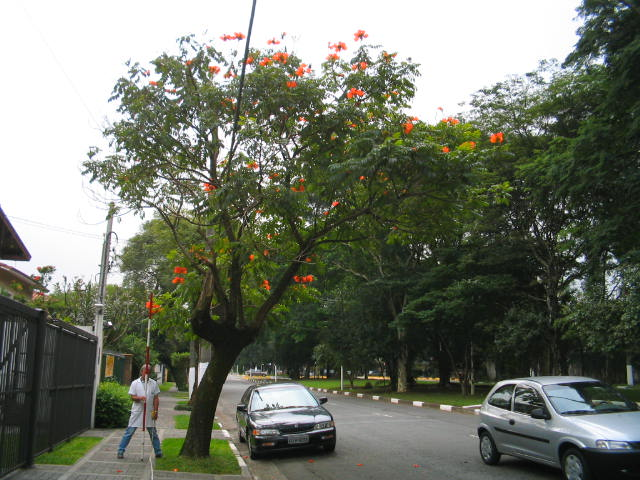crown: (77, 27, 503, 277)
stem: (175, 346, 243, 458)
stick: (136, 292, 160, 460)
tree: (75, 26, 504, 461)
